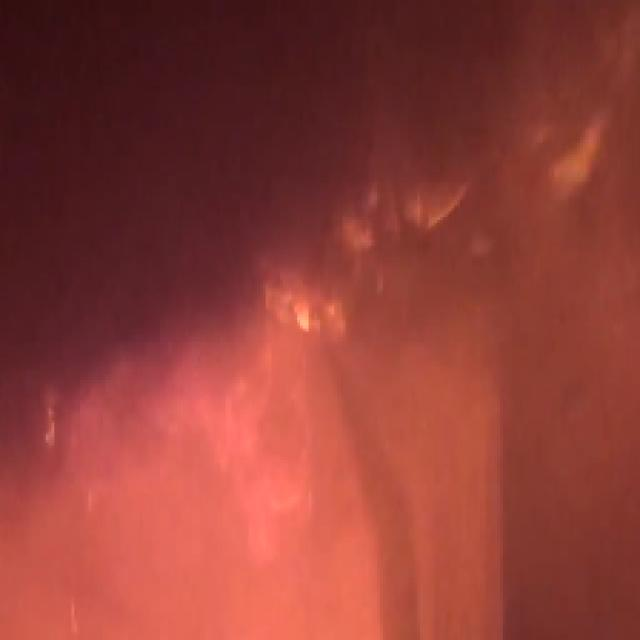Fire: (111, 380, 320, 534), (262, 280, 348, 337)
Smoke: (400, 11, 626, 468), (122, 3, 252, 343), (11, 12, 103, 457)
